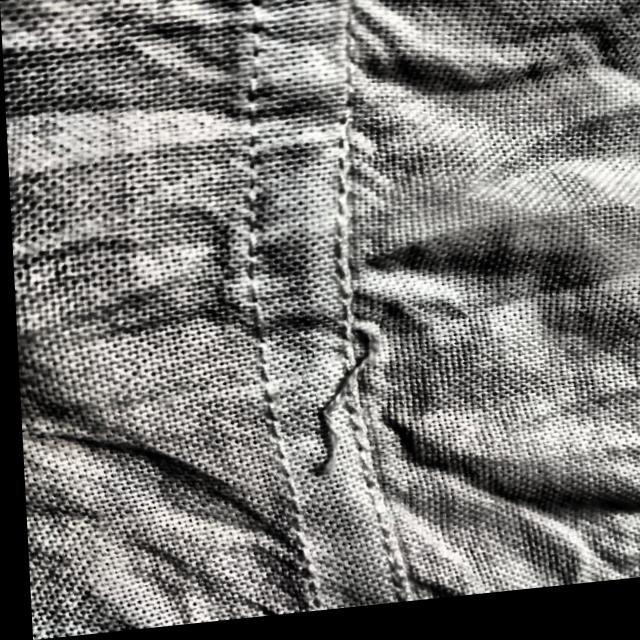Stitch: (246, 305, 410, 502)
